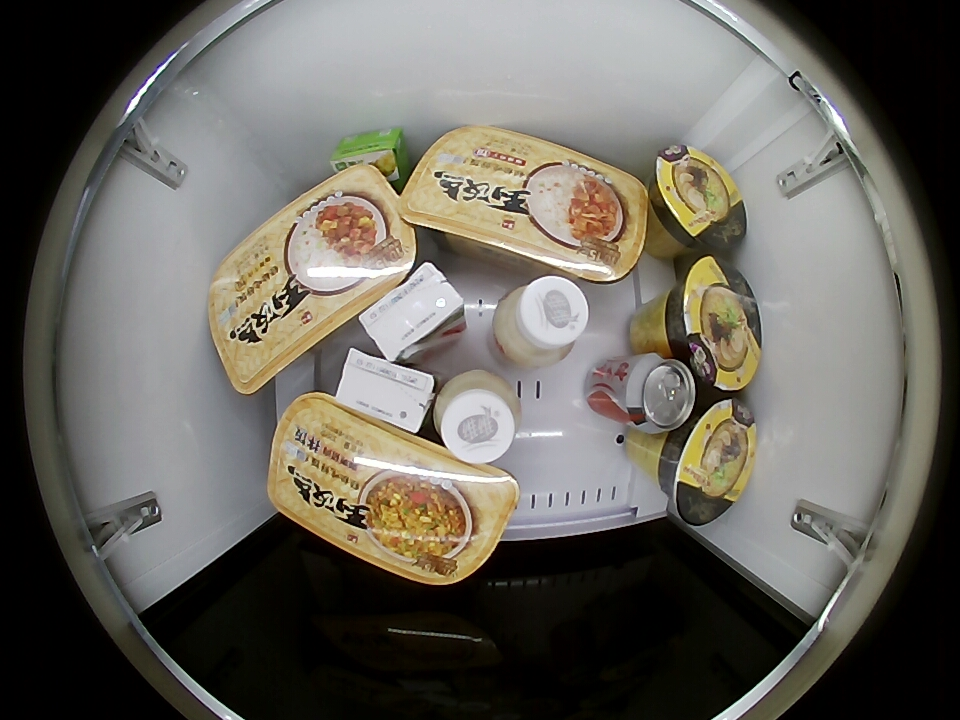daofandian2: (207, 165, 412, 391)
daofandian3: (267, 394, 516, 585)
daofandian4: (400, 127, 649, 282)
jianlibao: (625, 355, 698, 432)
mengniu: (359, 259, 466, 362), (324, 346, 435, 433)
mengniuzaocan: (330, 127, 406, 174)
tangdaren2: (661, 256, 763, 393), (661, 398, 757, 527), (648, 144, 748, 253)
weiweidounai: (493, 275, 589, 367), (431, 370, 520, 465)
